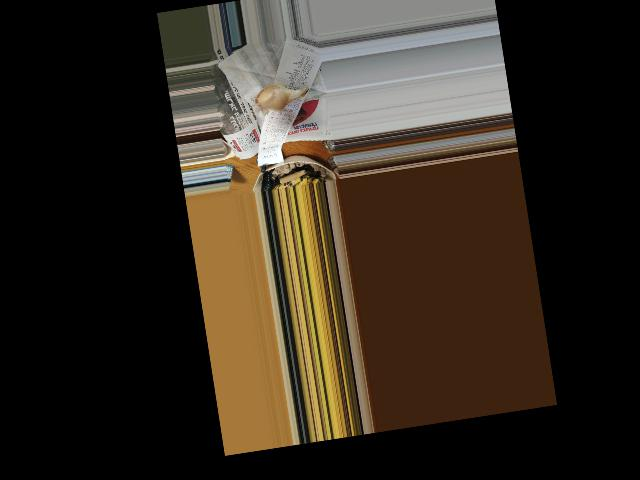onion: (253, 79, 305, 115)
